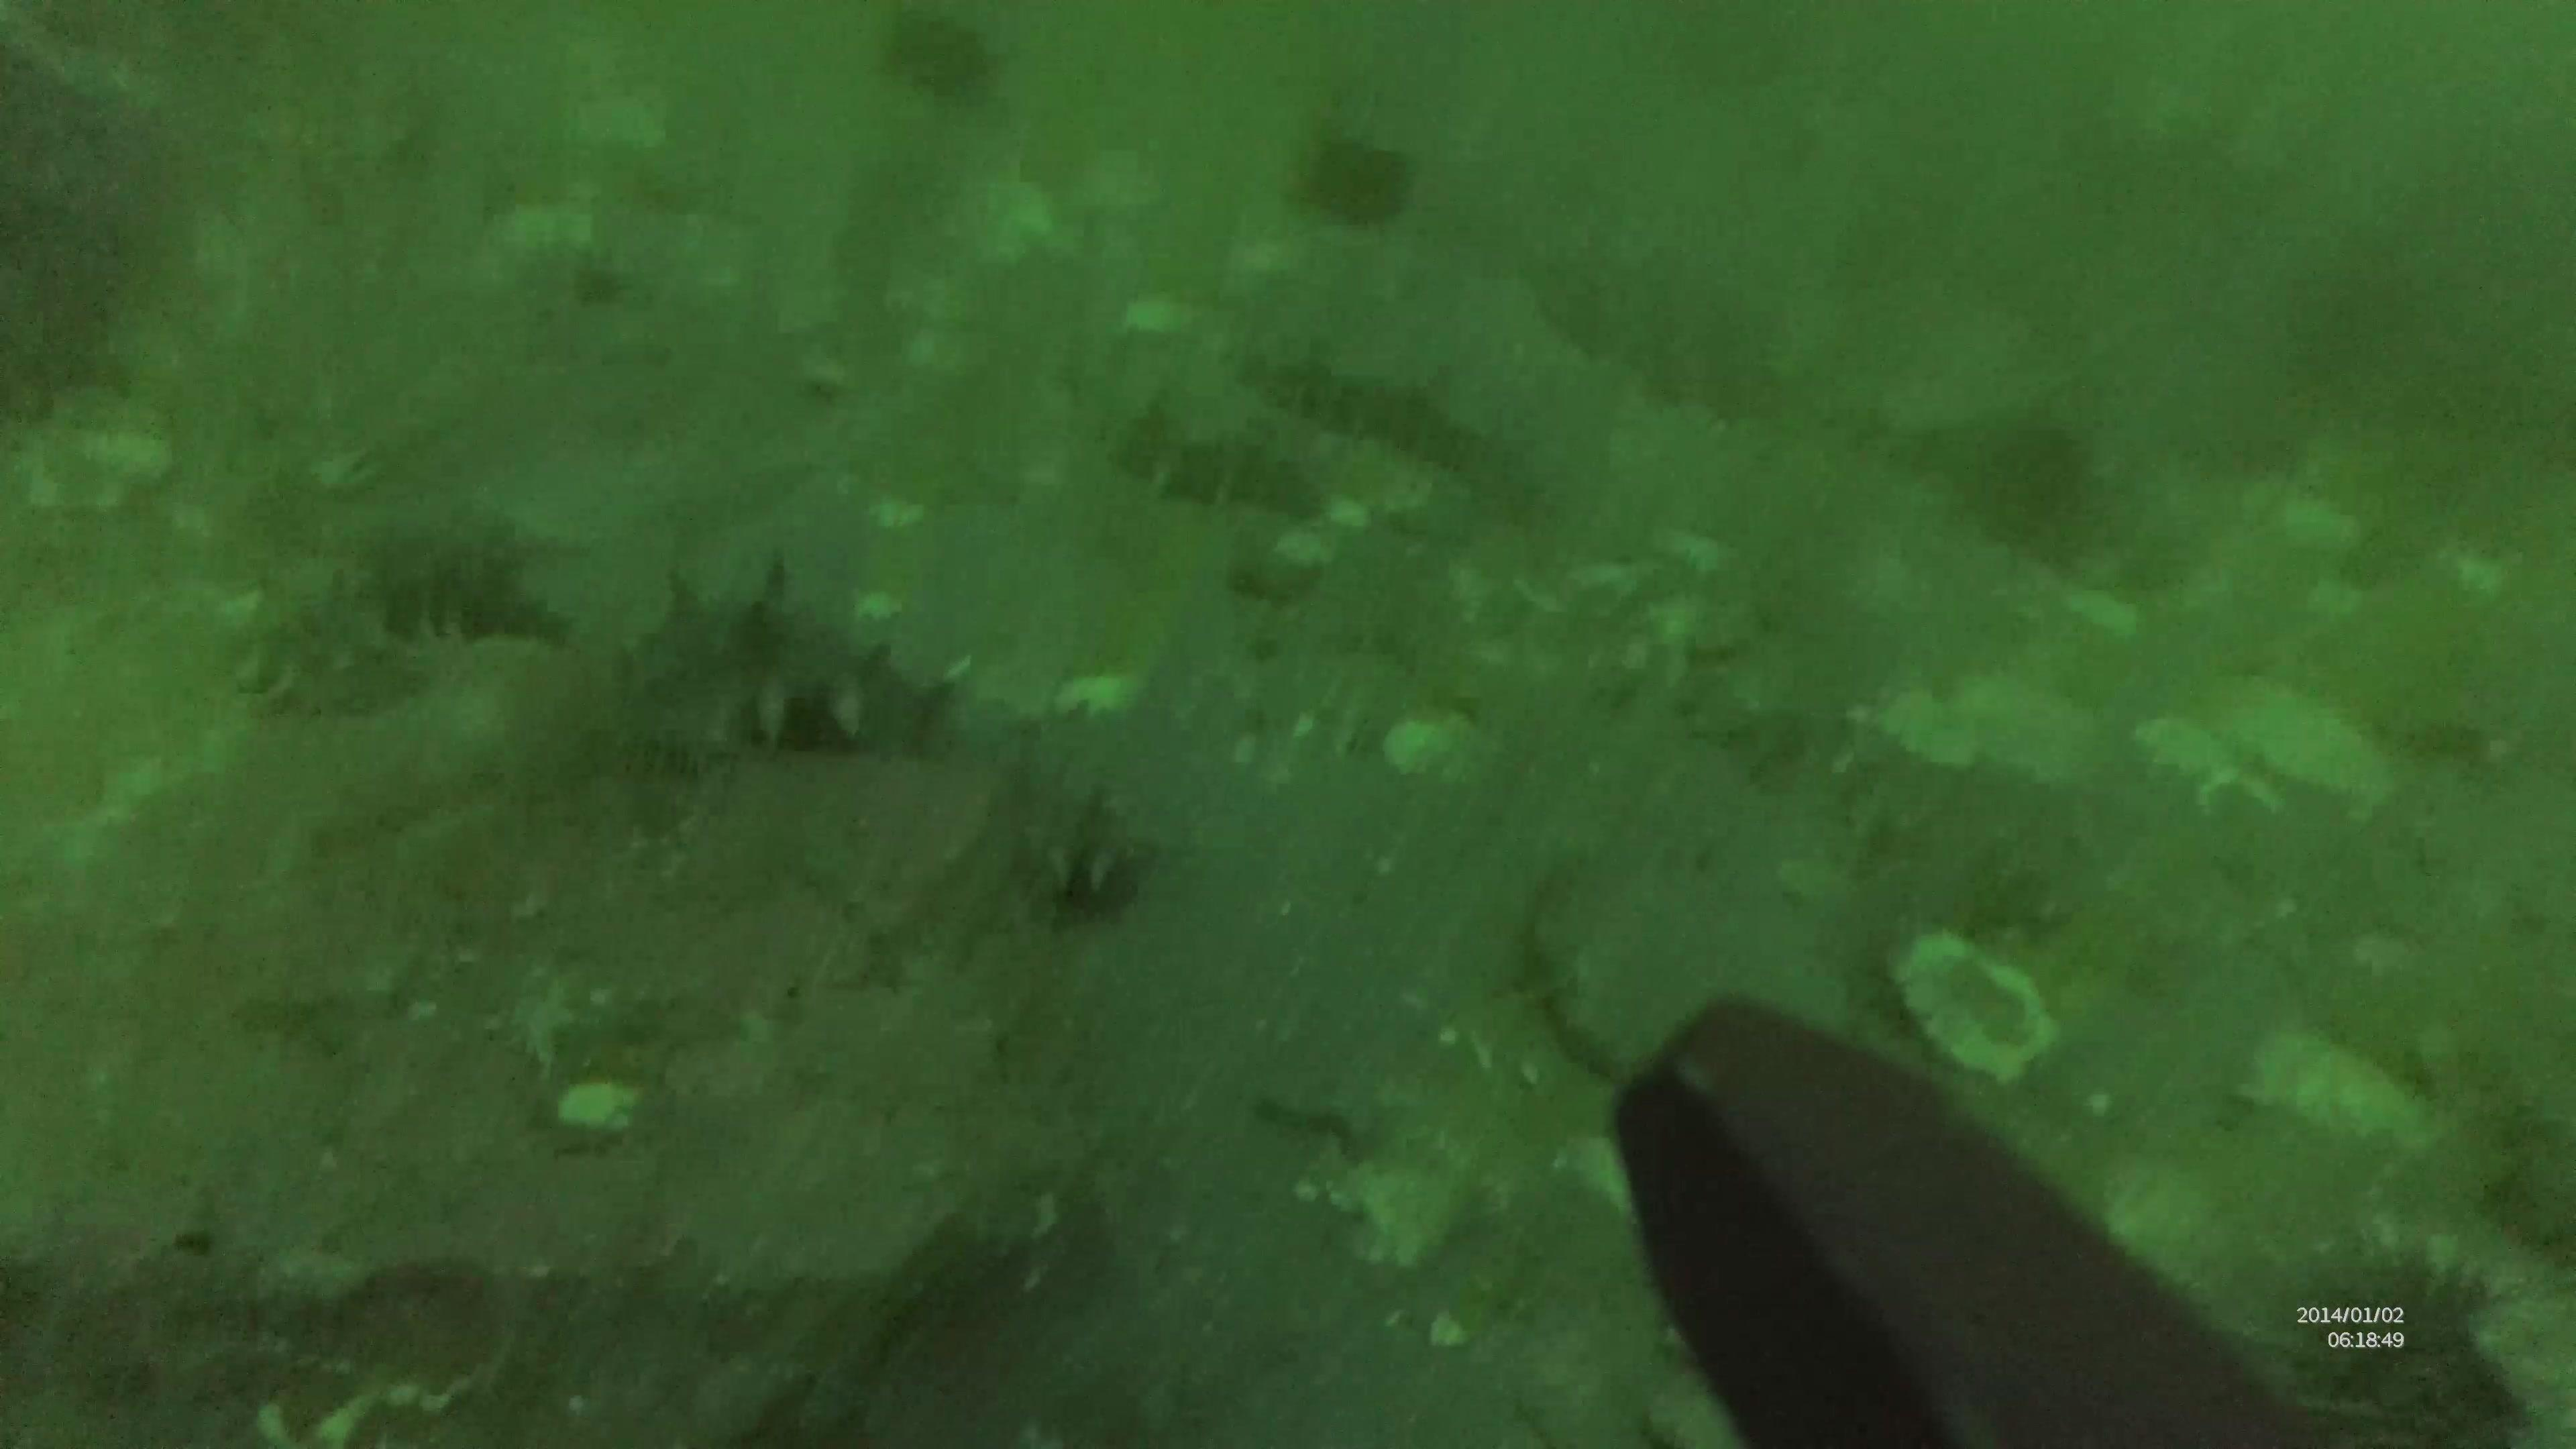echinus: (2309, 1242, 2541, 1449), (1959, 409, 2088, 536), (881, 9, 993, 110), (1292, 133, 1414, 225)
holothurian: (593, 564, 966, 763), (1233, 326, 1543, 506), (345, 513, 582, 655), (1005, 740, 1169, 938), (1113, 400, 1311, 533), (255, 589, 410, 722)
scallop: (1868, 651, 2104, 789), (1369, 701, 1514, 794), (961, 170, 1044, 269), (1044, 656, 1146, 725), (1111, 290, 1205, 341), (847, 485, 929, 536), (851, 580, 913, 625)
